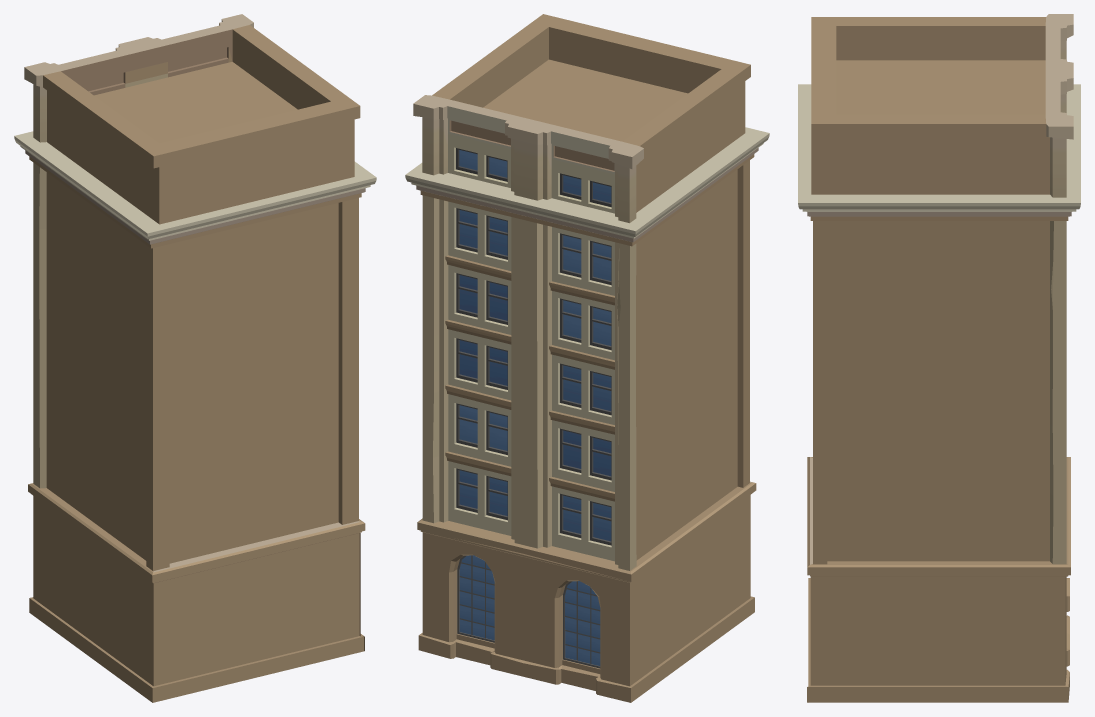
The model's file is Building 3.fbx.
3 views of the same model, side by side, from view 1: azimuth 30°, elevation 25°; view 2: azimuth 150°, elevation 25°; view 3: azimuth 270°, elevation 25° (orthographic). The views are drawn at different scales.
Parts seen in each view (by area): view 1: Building_3; view 2: Building_3; view 3: Building_3.
Part boxes in pixels (x1=…): Building_3: x1=14, y1=14, x2=376, y2=702; Building_3: x1=405, y1=14, x2=769, y2=702; Building_3: x1=798, y1=14, x2=1080, y2=702.
Bounding box in the file's own units: 556 × 1263 × 560.
